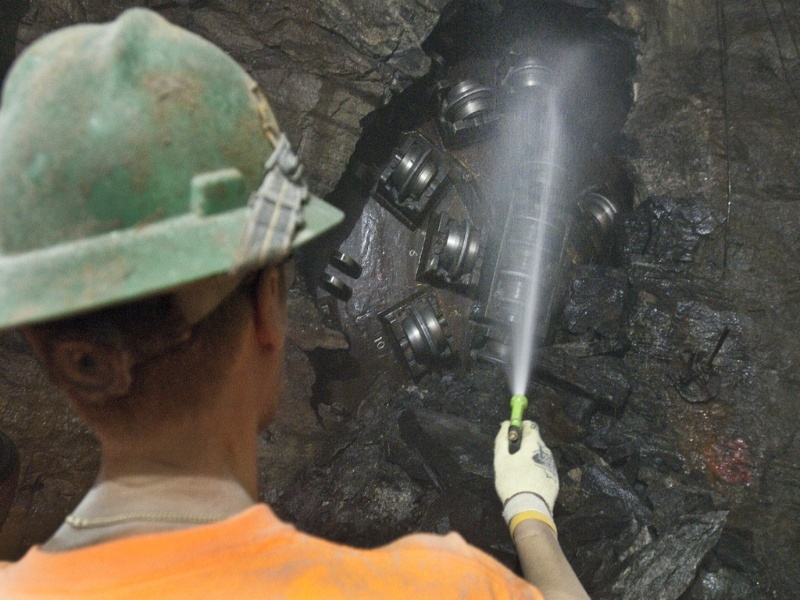Baret: (4, 6, 347, 331)
